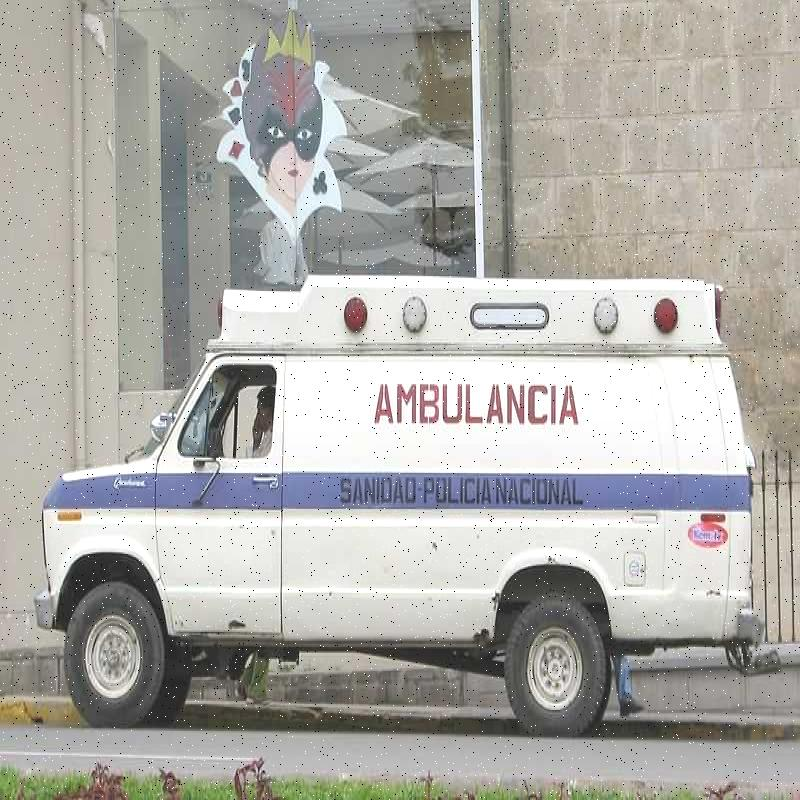ambulance: (29, 259, 758, 749)
